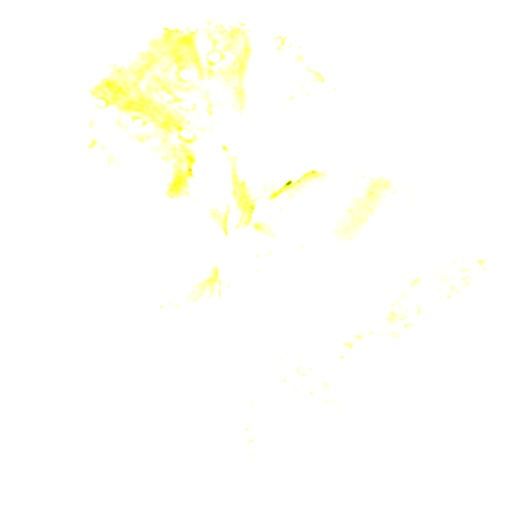Leaf Spot: (76, 14, 346, 244), (102, 257, 367, 486), (228, 163, 503, 352)
